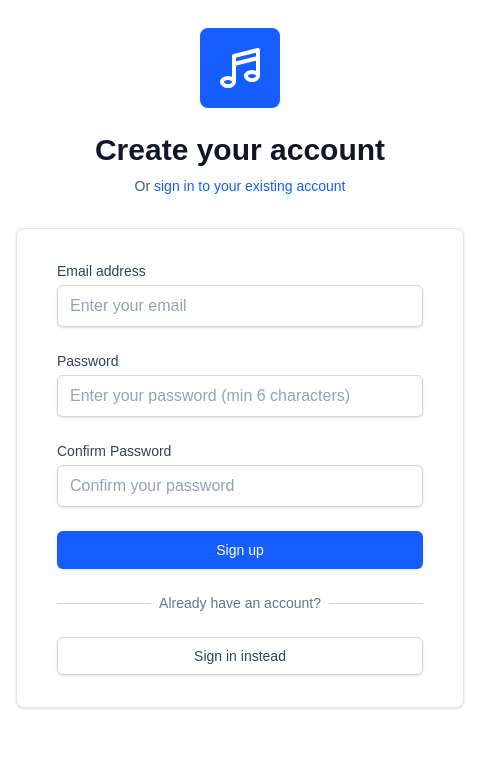
Test: SignUpPage › should show error when passwords do not match
Type "test@example.com" into the field labelled "Email address" at (240, 306), box [57,285,423,327]
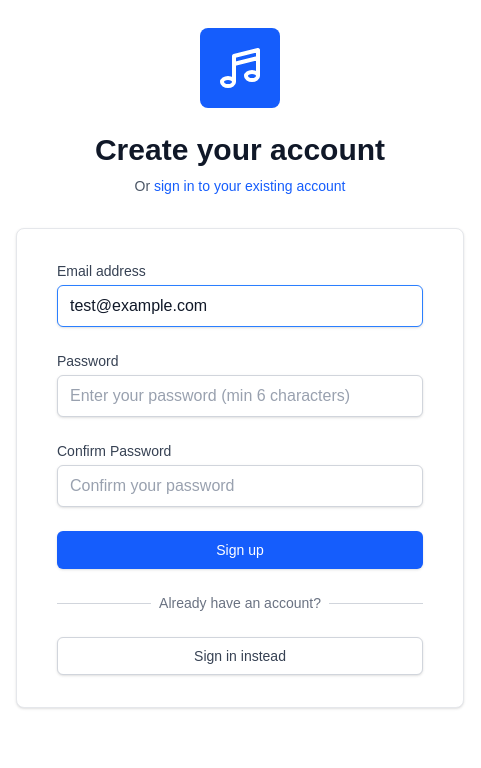
Type "password123" into the password field labelled "Password" at (240, 396), box [57,375,423,417]
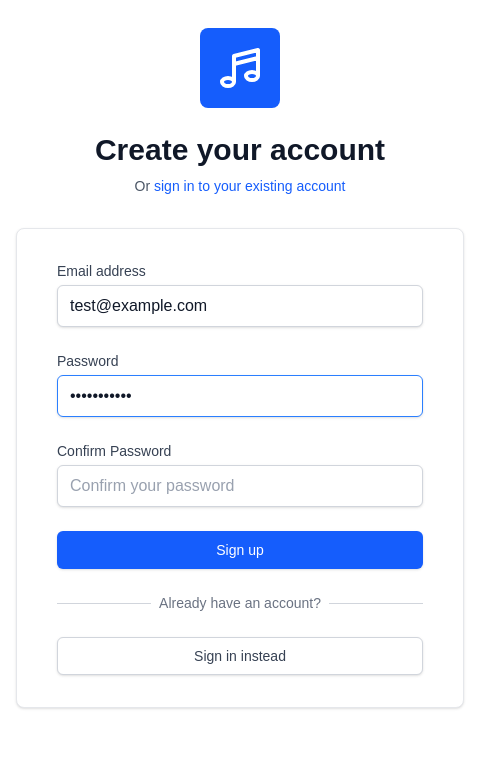
Type "different" into the password field labelled "Confirm Password" at (240, 486), box [57,465,423,507]
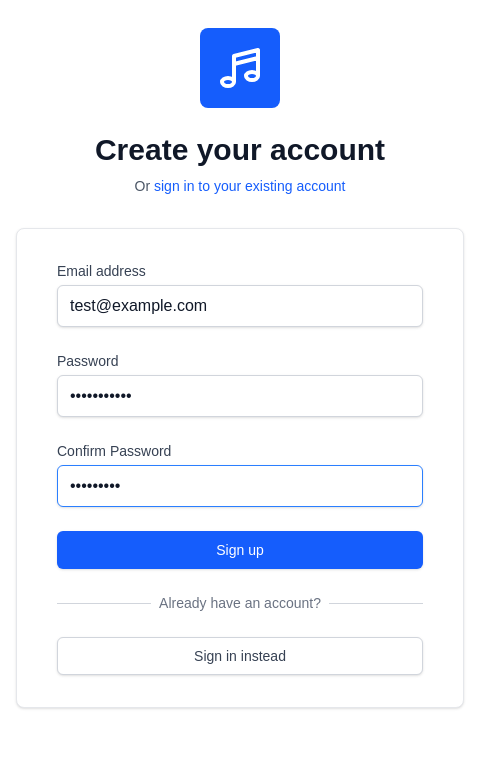
Click the button "Sign up" at (240, 550), box [57,531,423,569]
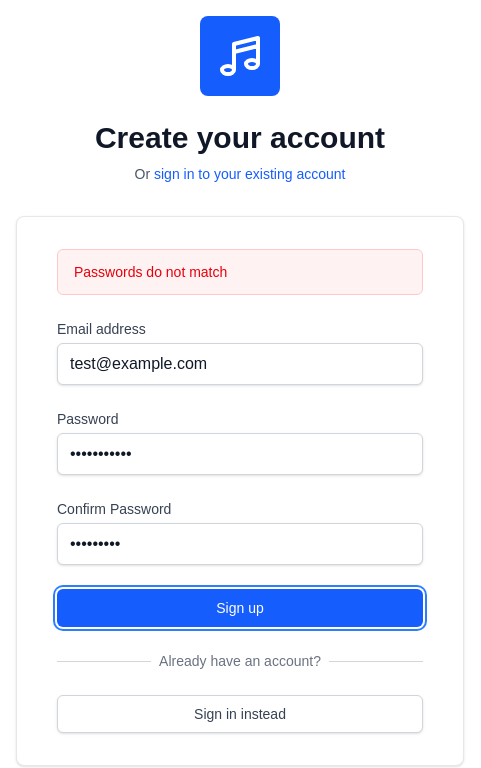
Now the text "Passwords do not match" is shown, box [57,249,423,295]
